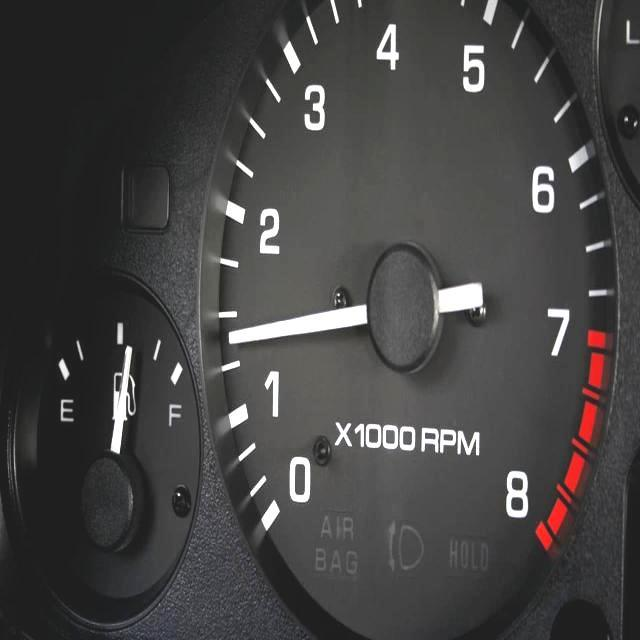Needle_Tip: (212, 316, 253, 363)
Needle_base: (365, 249, 443, 376)
max_value: (484, 470, 539, 522)
min_value: (274, 449, 326, 514)
